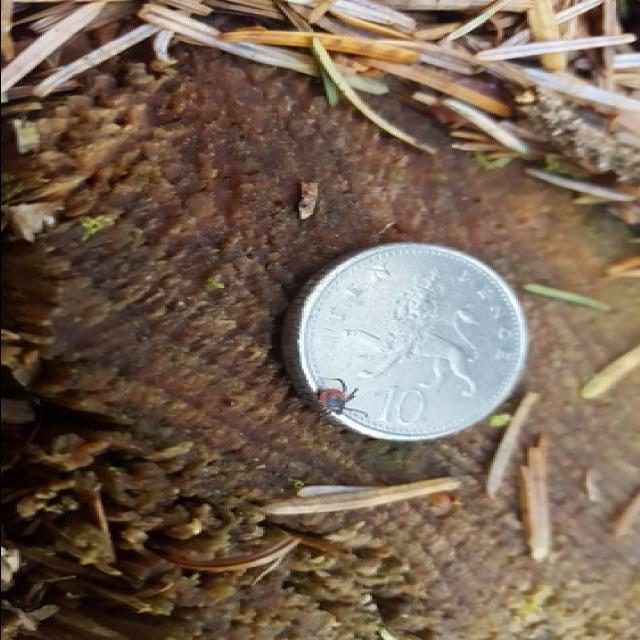Ixodes Ricinus-F: (314, 374, 369, 430)
